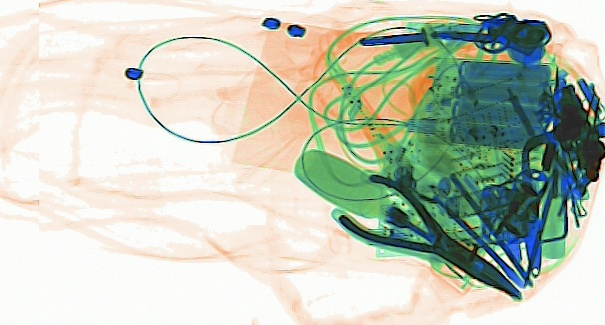powerbank: (426, 59, 552, 150)
